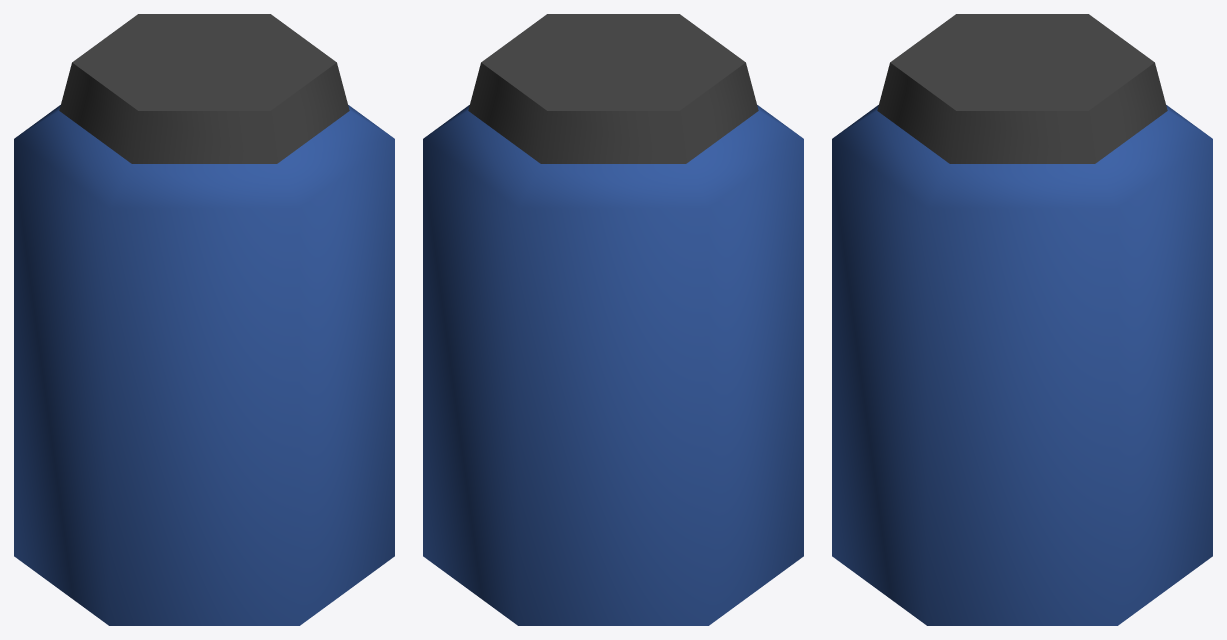
The model's file is SM_Bottle_02.fbx.
3 renders of one model, left to right at view 1: azimuth 30°, elevation 25°; view 2: azimuth 150°, elevation 25°; view 3: azimuth 270°, elevation 25°, orthographic.
Parts seen in each view (by area): view 1: SM_Bottle_02; view 2: SM_Bottle_02; view 3: SM_Bottle_02.
Boxes of the visible parts, x1,y1,x2,y2 form: SM_Bottle_02: [14, 14, 394, 625]; SM_Bottle_02: [423, 14, 803, 625]; SM_Bottle_02: [832, 14, 1212, 625].
Bounding box in the file's own units: 9.51 × 15.72 × 10.99.
1 material, 1 textured.
